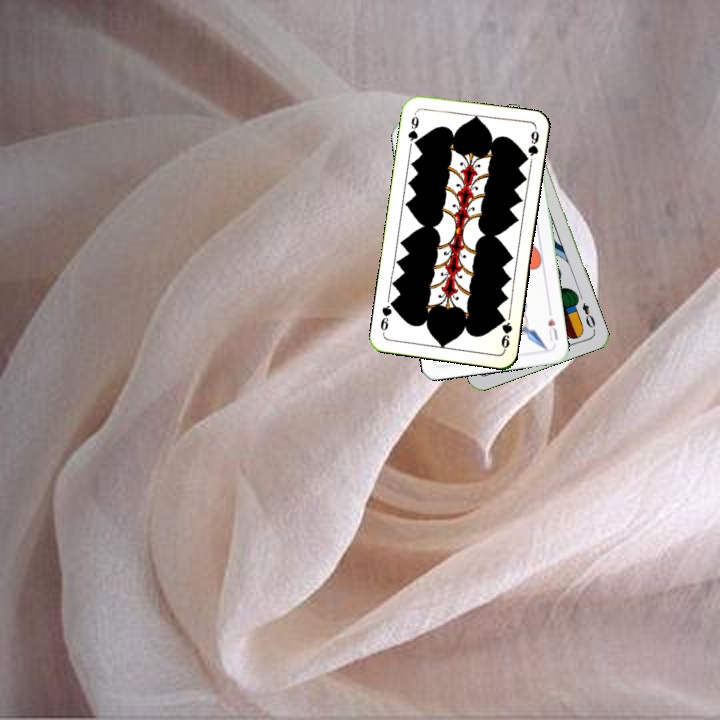EO: (578, 299, 598, 331)
G9: (497, 311, 515, 353), (404, 109, 422, 149)
HU: (544, 314, 560, 344)
